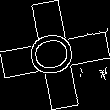O_E: (26, 29, 84, 81)
